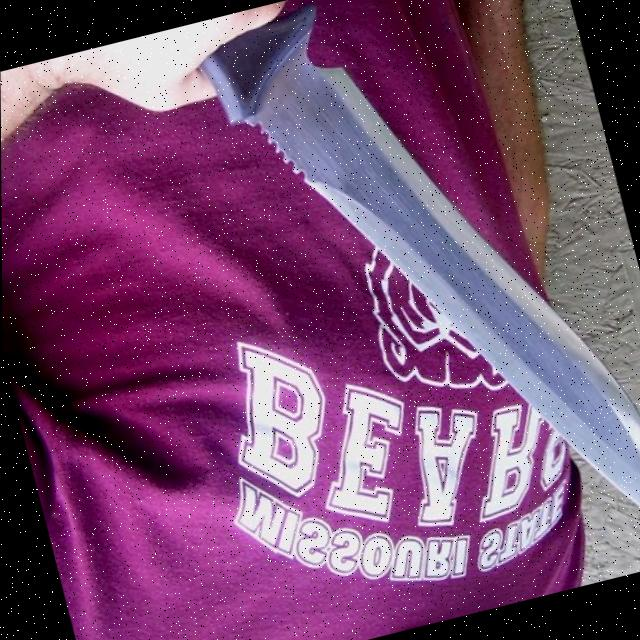knife: (169, 0, 640, 634)
